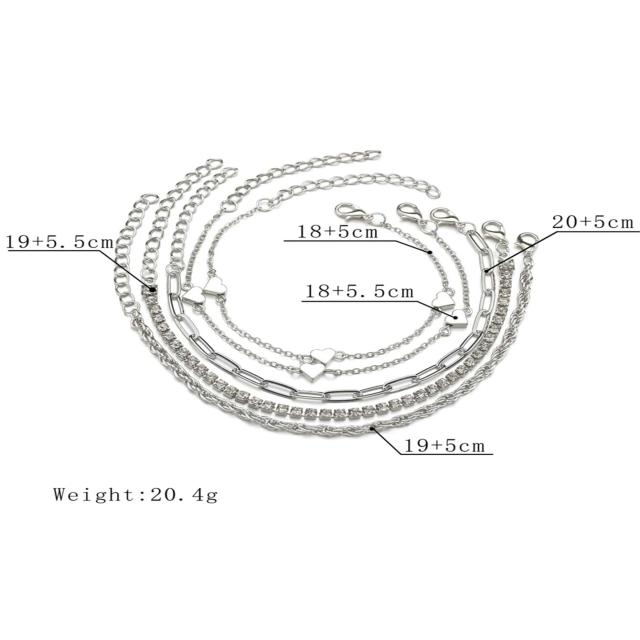bracelet: (35, 90, 640, 444)
